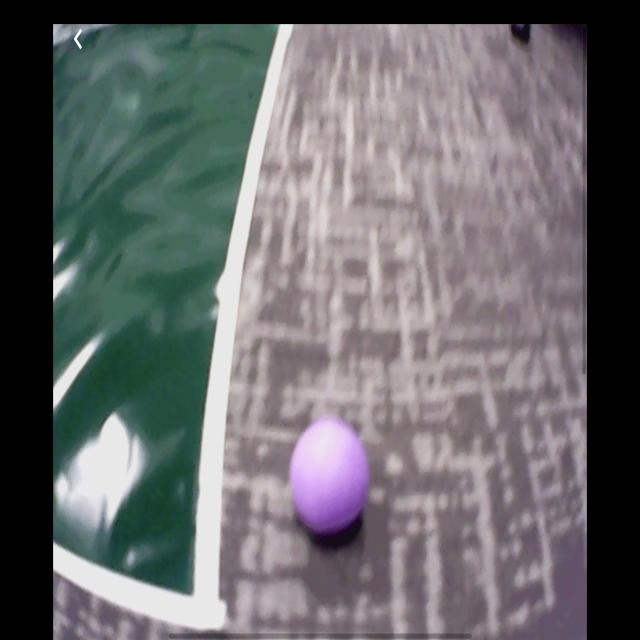ball: (292, 422, 369, 535)
